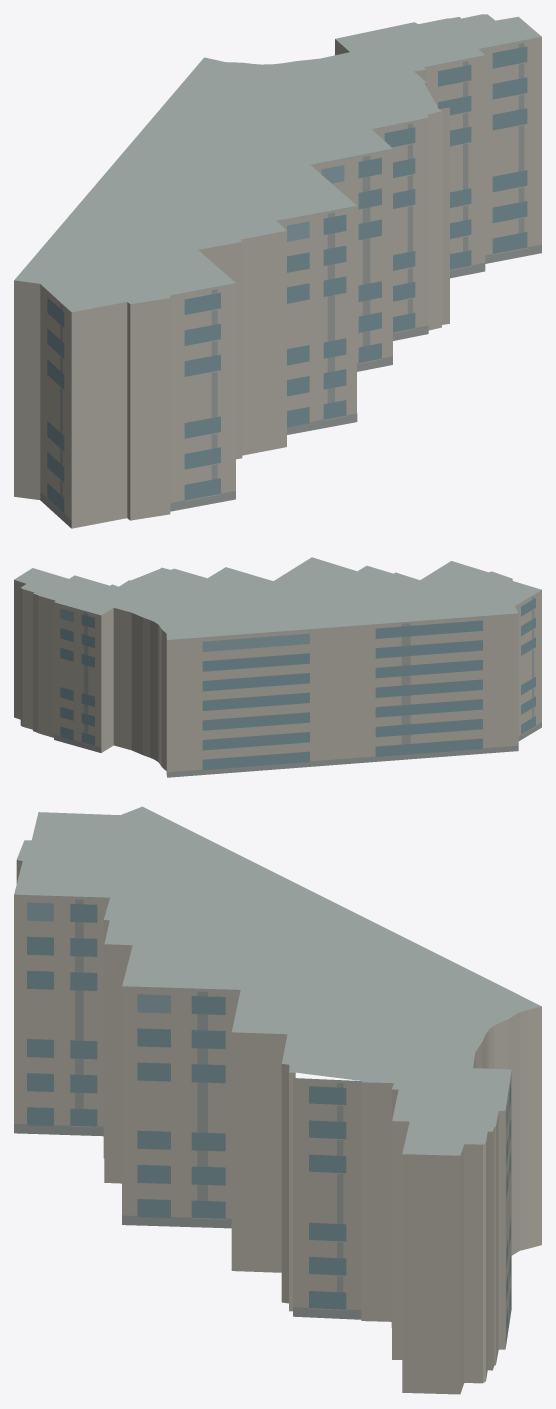
The model's file is survey-upis-32791269.glb.
The picture shows the model from 3 angles, top to bottom: view 1: azimuth 30°, elevation 25°; view 2: azimuth 150°, elevation 25°; view 3: azimuth 270°, elevation 25°; orthographic projection. The views are drawn at different scales.
Parts seen in each view (by area): view 1: survey-upis-32791269.tmp; view 2: survey-upis-32791269.tmp; view 3: survey-upis-32791269.tmp.
Boxes of the visible parts, box(x1,y1,x2,y2) form: survey-upis-32791269.tmp: box(14, 14, 541, 528); survey-upis-32791269.tmp: box(14, 557, 541, 777); survey-upis-32791269.tmp: box(14, 806, 541, 1394).
Size of the model in its own units: 62.13 by 19.8 by 39.69.
